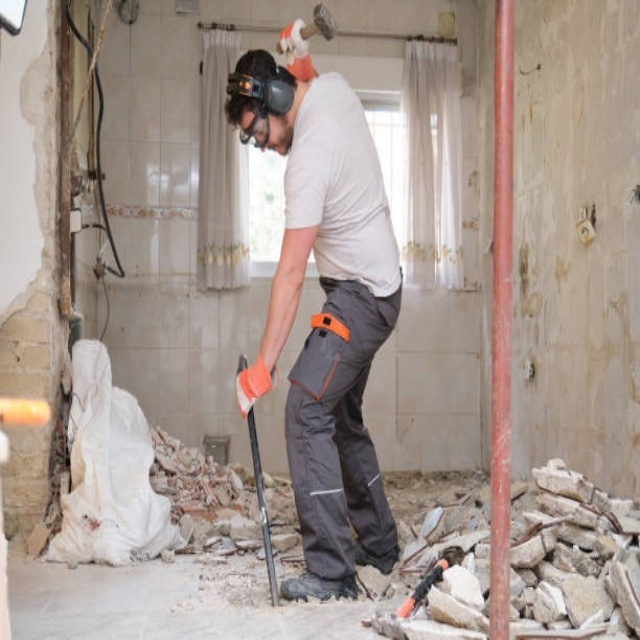Gafas: (239, 102, 275, 158)
Guantes: (236, 354, 277, 417), (278, 18, 310, 64)
Sin_mascara: (261, 133, 291, 163)
